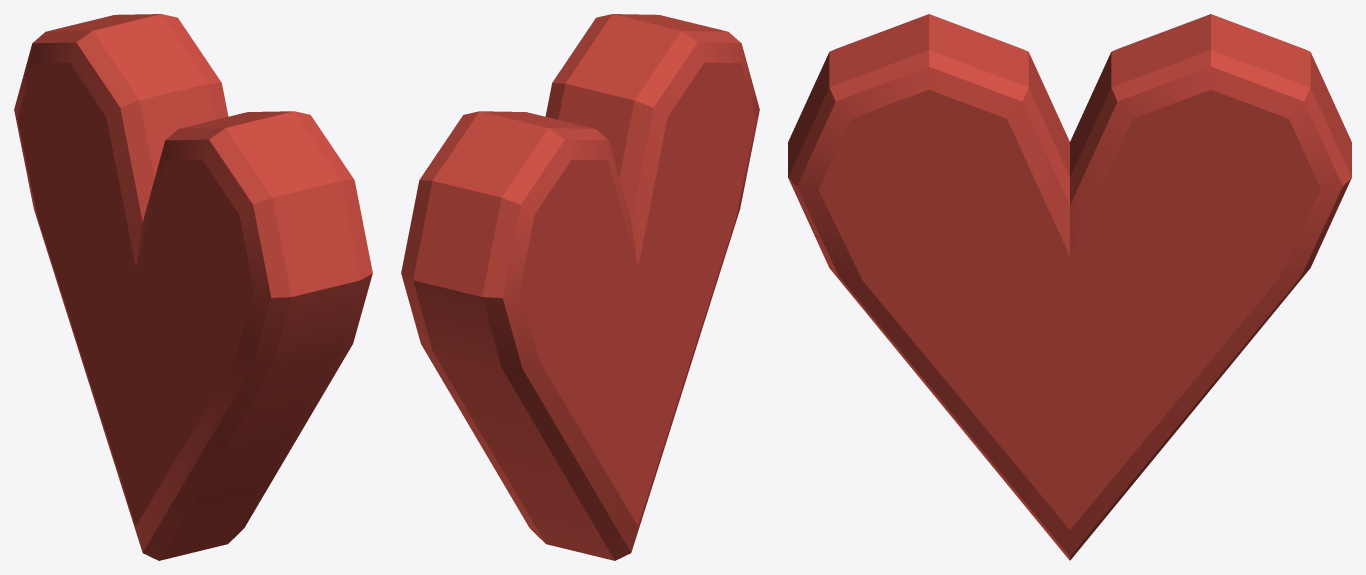
Rendered from Organ.fbx.
The picture shows the model from 3 angles, left to right: view 1: azimuth 30°, elevation 25°; view 2: azimuth 150°, elevation 25°; view 3: azimuth 270°, elevation 25°; orthographic projection. The views are drawn at different scales.
Visible parts, largest first — view 1: Organ; view 2: Organ; view 3: Organ.
Boxes of the visible parts, x1,y1,x2,y2 form: Organ: (14, 14, 372, 560); Organ: (401, 14, 759, 560); Organ: (788, 14, 1351, 560).
Size of the model in its own units: 15 by 60 by 60.
